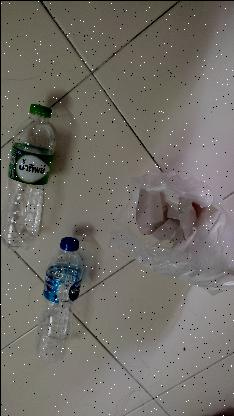Others: (104, 168, 234, 302)
Plastic Bottle: (0, 98, 62, 254), (31, 226, 87, 370)
